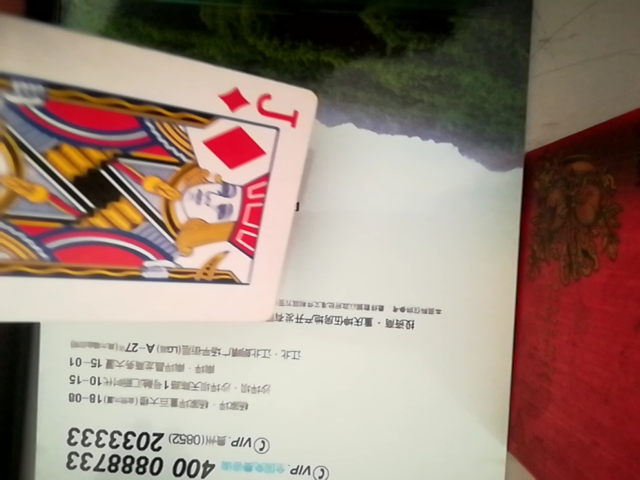fk j: (0, 11, 330, 319)
